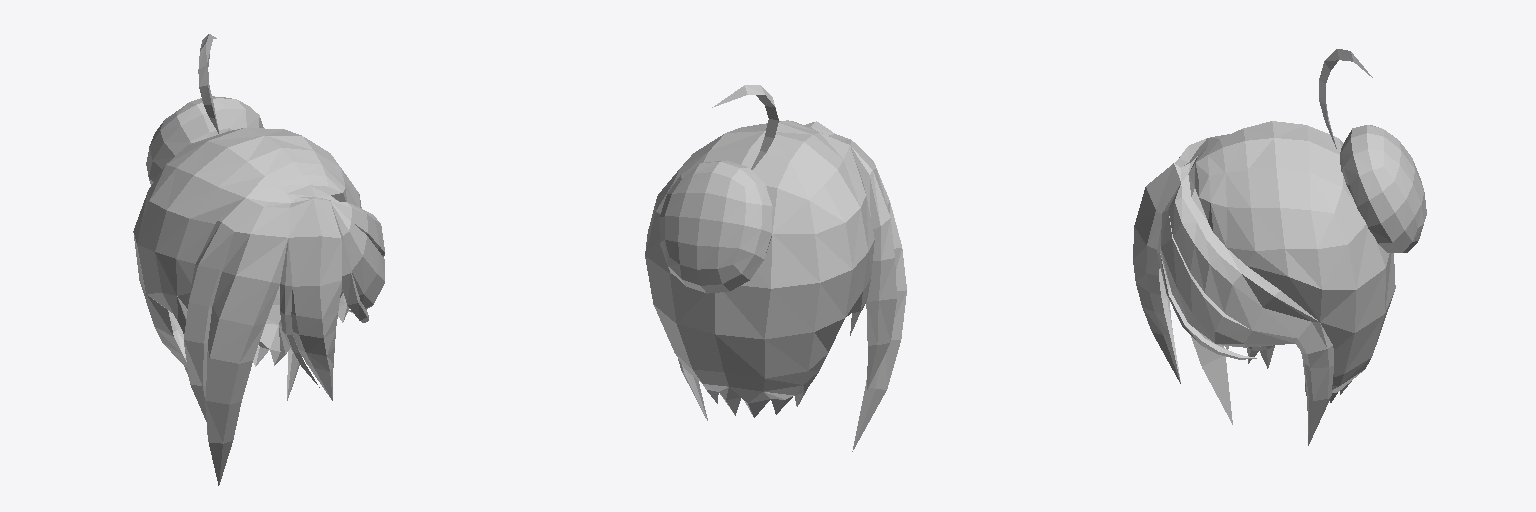
Rendered from Mei Mio hair 22.obj.
The picture shows the model from 3 angles: view 1: azimuth 30°, elevation 25°; view 2: azimuth 150°, elevation 25°; view 3: azimuth 270°, elevation 25°; orthographic projection.
Size of the model in its own units: 23.18 by 43.37 by 29.01.